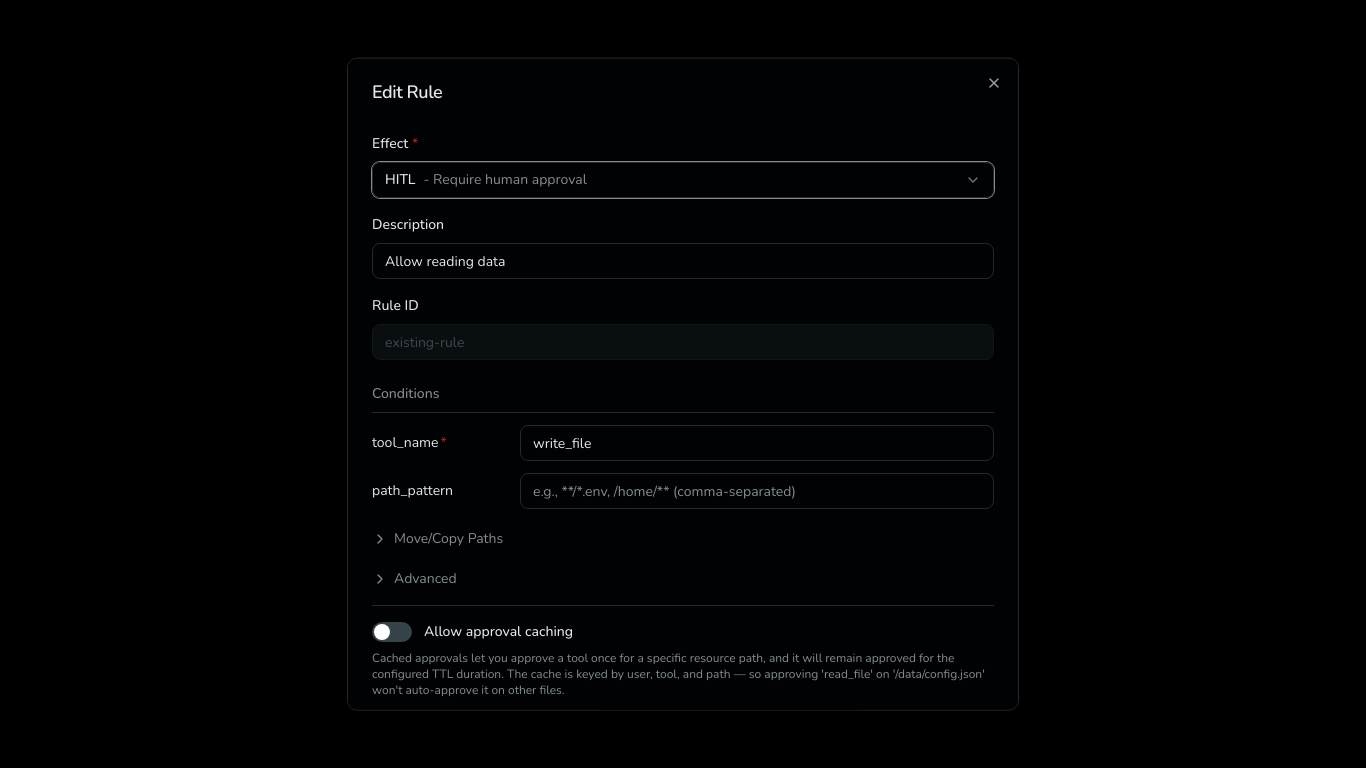
Test: RuleFormDialog › HITL › hides caching section when effect changes away from "hitl"
This screenshot has width=1366, height=768.
Check: the text "Allow approval caching" is shown, box [424,622,573,642]
Note: Change effect to "deny"
Click the dropdown.
click(400, 179)  # box [372,162,994,198]
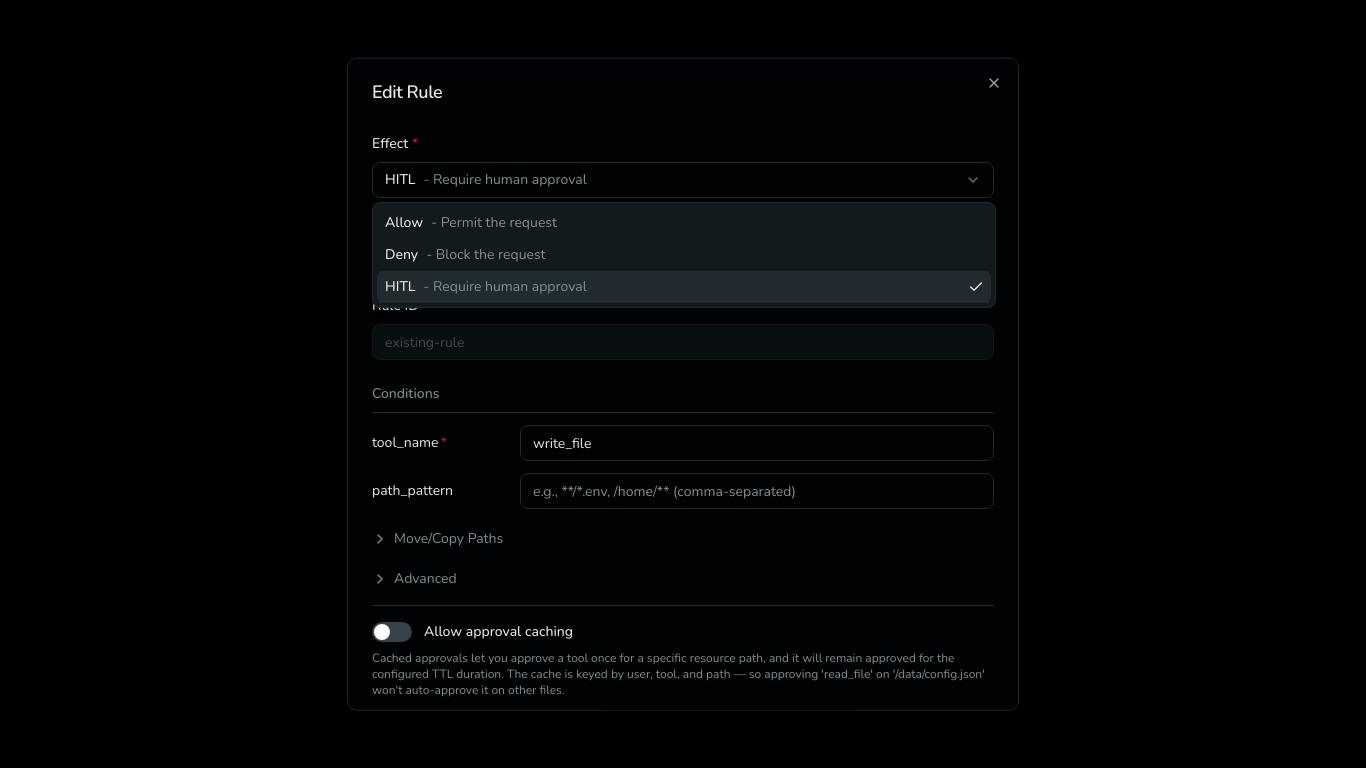
Click the text "Deny".
click(402, 254)  # box [385,245,418,264]
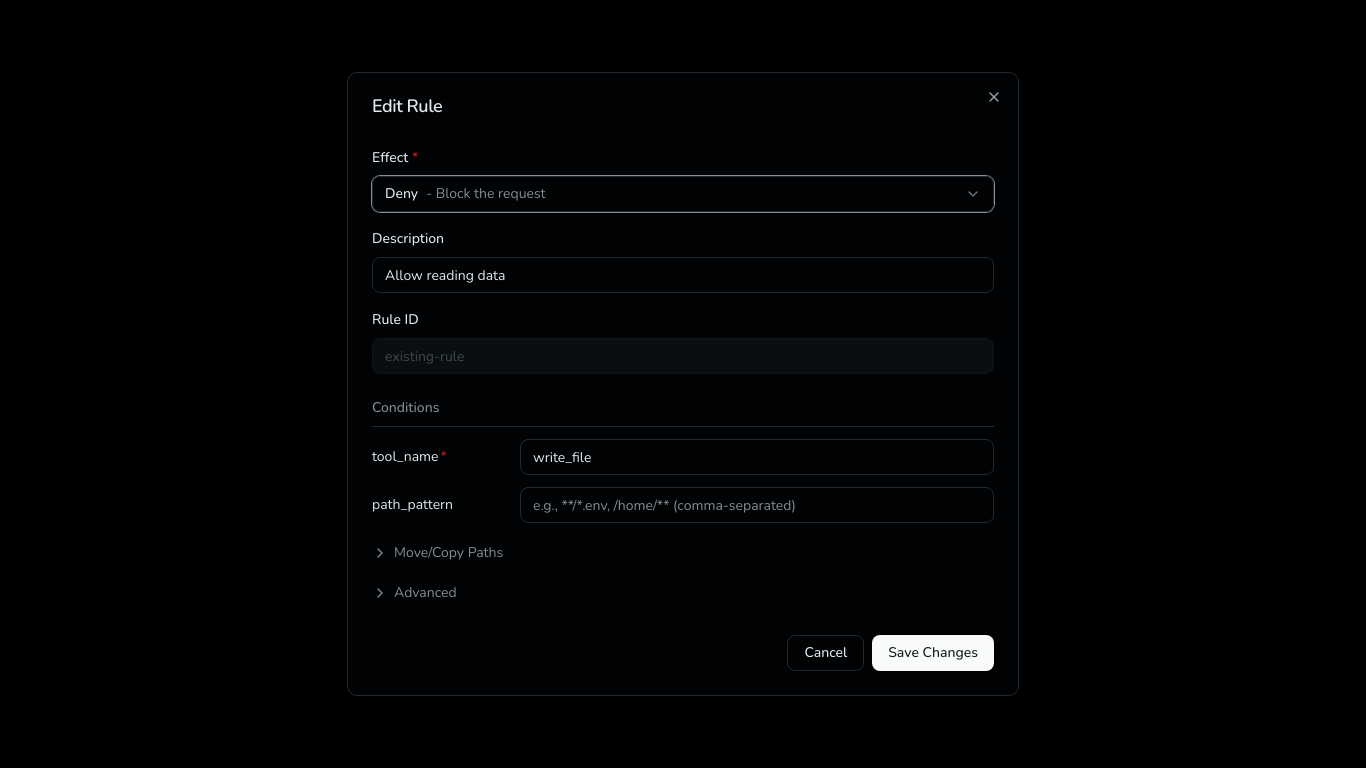
Check: the text "Allow approval caching" is gone
